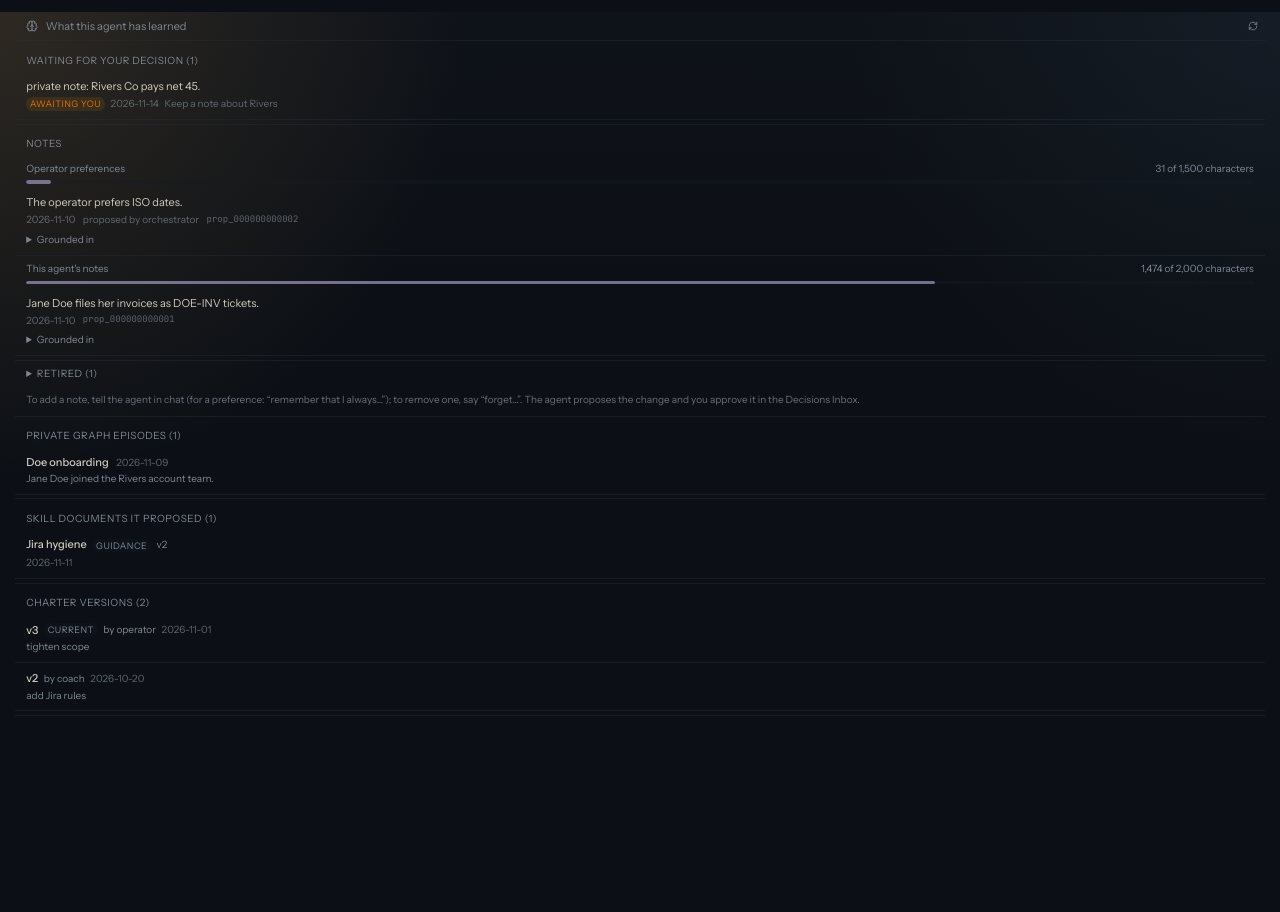
it: MemoryTab › keeps retired notes in a collapsed Retired list
Expected: the text "Rivers Co pays net 30." is not shown
Click the heading "Retired (1)": (67, 374) [37,367,98,380]
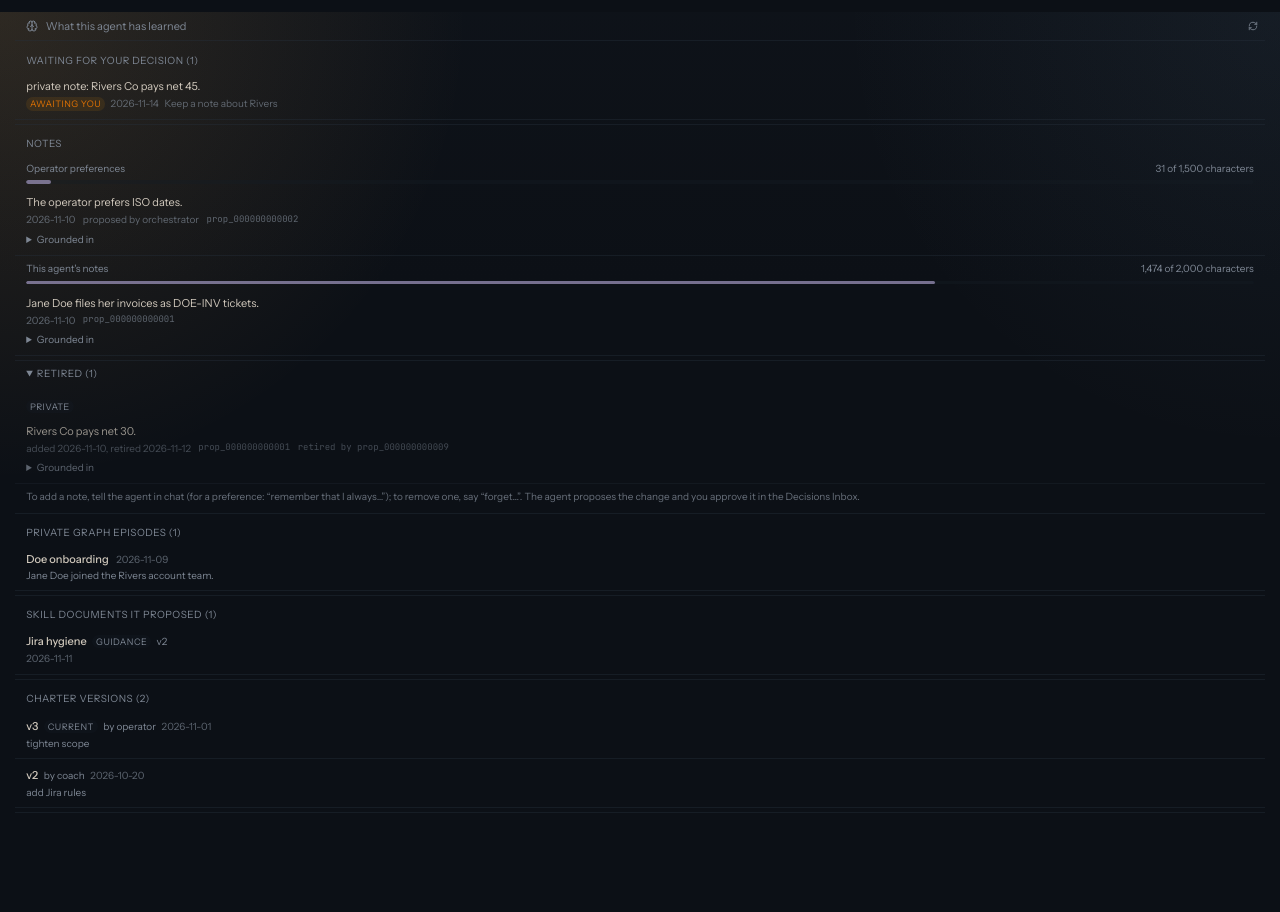
Now the text "Rivers Co pays net 30." is shown, box [26,424,136,438]
Now the text "retired by prop_000000000009" is shown, box [298,442,449,455]
